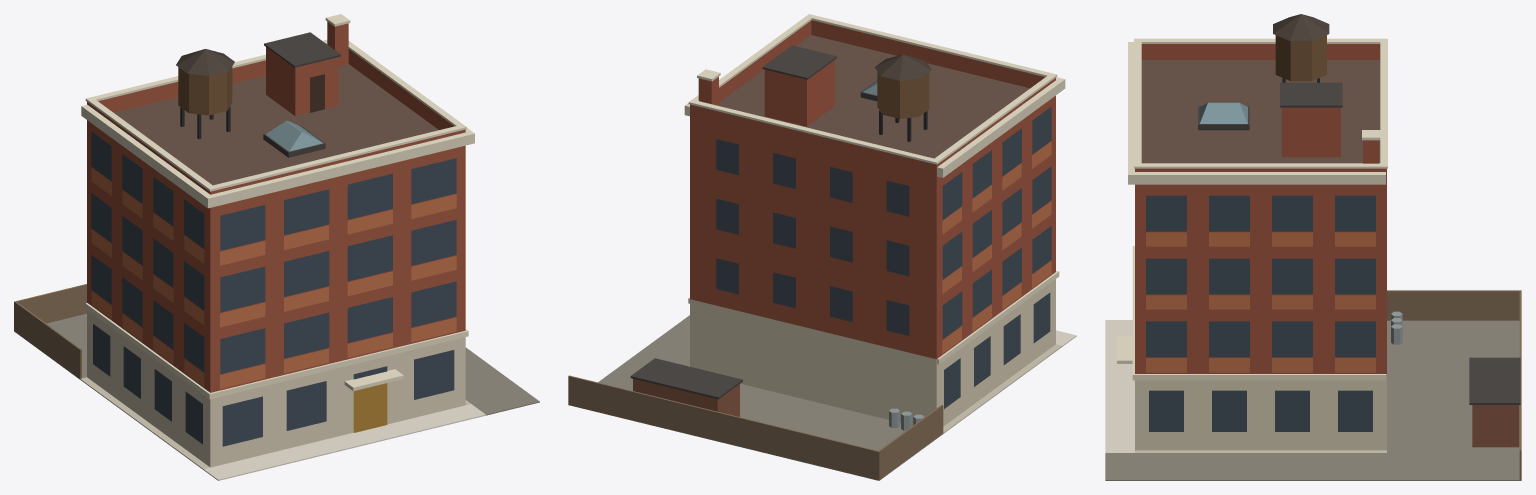
Rendered from office.glb.
The picture shows the model from 3 angles, left to right: view 1: azimuth 30°, elevation 25°; view 2: azimuth 150°, elevation 25°; view 3: azimuth 270°, elevation 25°; orthographic projection. The views are drawn at different scales.
Visible parts, largest first — view 1: office; view 2: office; view 3: office.
Boxes of the visible parts, x1,y1,x2,y2 form: office: (14, 14, 539, 480); office: (568, 14, 1076, 480); office: (1105, 14, 1521, 480).
Size of the model in its own units: 20 by 20.3 by 22.
